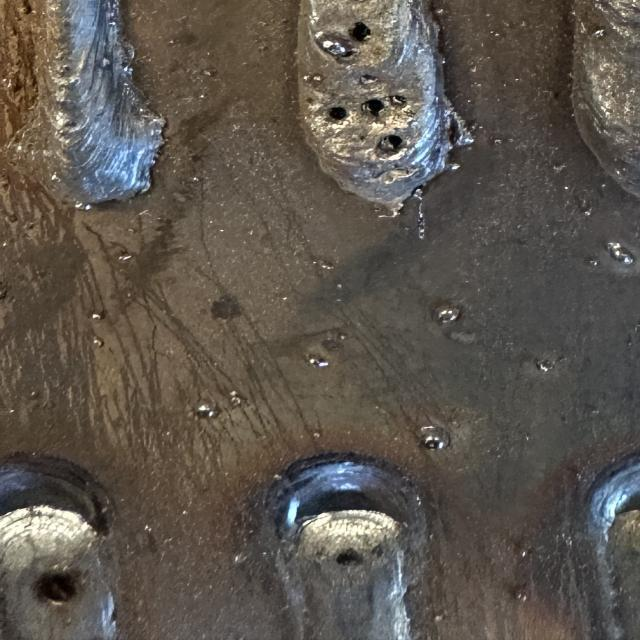Excess Reinforcement: (115, 41, 165, 199), (443, 96, 473, 147)
Porosity: (33, 571, 78, 602), (348, 21, 372, 41), (335, 549, 363, 566), (378, 135, 403, 154), (362, 99, 385, 116), (328, 106, 348, 120), (388, 95, 407, 106)
Spatters: (315, 32, 353, 58), (420, 426, 450, 449), (607, 242, 633, 264), (433, 305, 460, 324), (195, 401, 220, 419), (510, 584, 533, 602), (515, 544, 532, 563), (228, 391, 247, 408), (310, 358, 330, 368), (617, 252, 633, 264), (22, 0, 33, 14), (118, 252, 133, 262), (90, 311, 105, 320), (203, 68, 218, 76), (93, 336, 103, 348), (592, 29, 605, 38), (588, 258, 598, 266), (582, 209, 591, 216), (192, 176, 200, 181)
